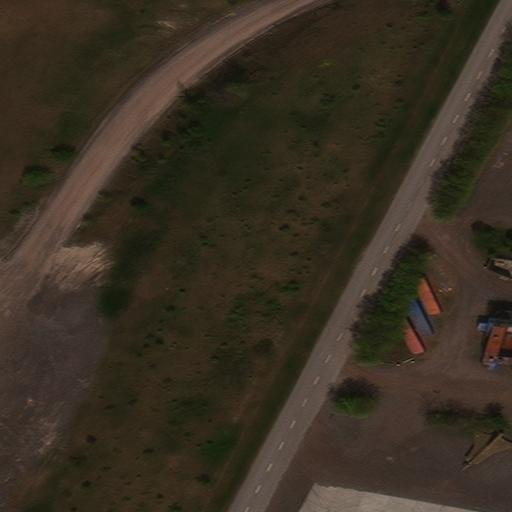Military Fighter: (459, 430, 512, 474)
